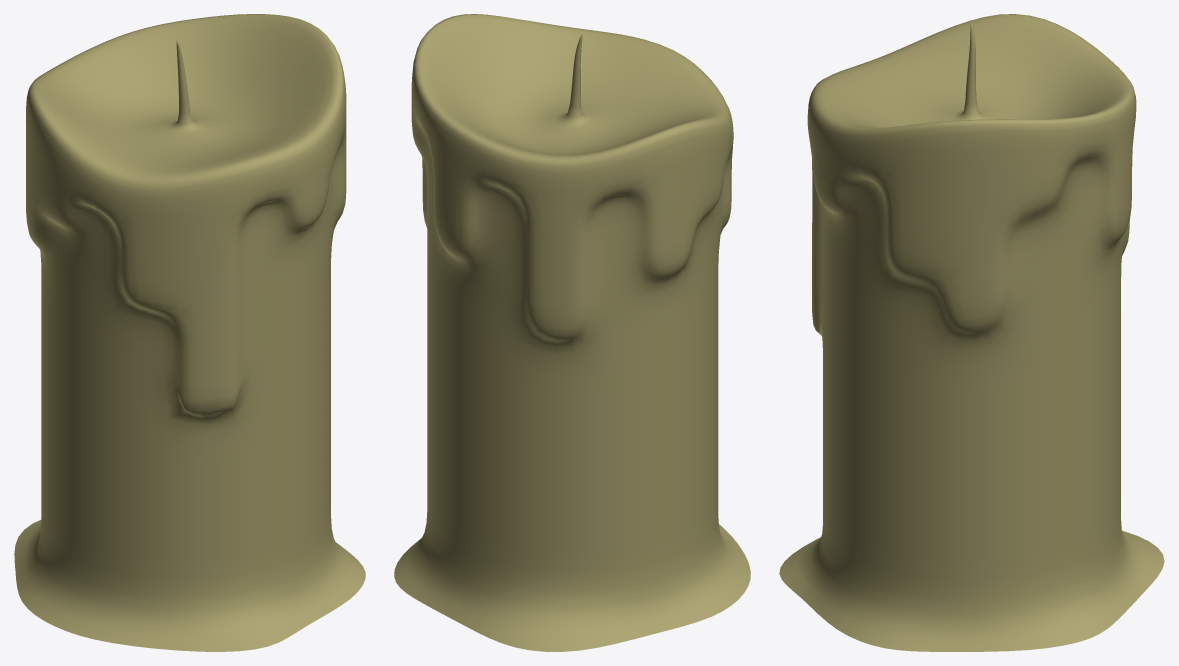
Rendered from candle_v2.FBX.
3 renders of one model, left to right at view 1: azimuth 30°, elevation 25°; view 2: azimuth 150°, elevation 25°; view 3: azimuth 270°, elevation 25°, orthographic. The views are drawn at different scales.
Parts seen in each view (by area): view 1: Cylinder003; view 2: Cylinder003; view 3: Cylinder003.
Part boxes in pixels (x1,y1,x2,y2): Cylinder003: (14,14,365,651); Cylinder003: (394,14,750,651); Cylinder003: (779,14,1164,651).
Bounding box in the file's own units: 18 × 31.08 × 19.51.
